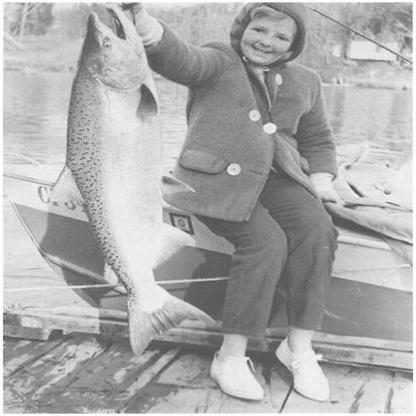fish: (50, 3, 212, 352)
